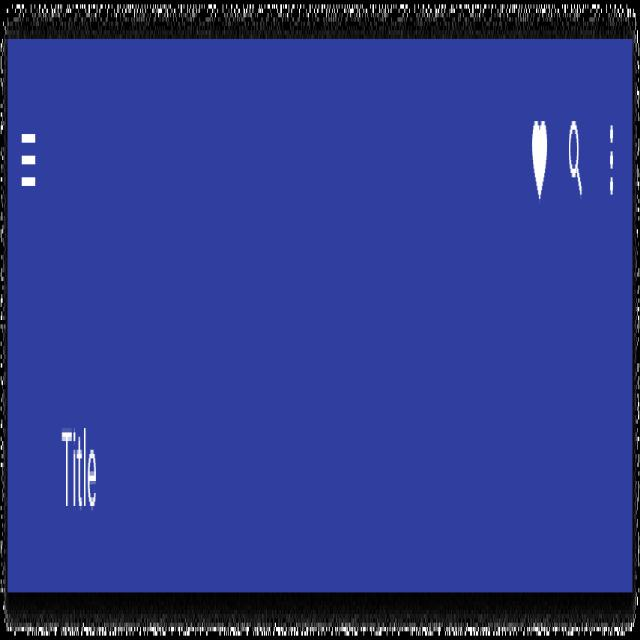QLabel: (60, 419, 98, 522)
VAppBar: (6, 32, 634, 605)
VIcon: (566, 116, 584, 202), (531, 114, 548, 205), (20, 127, 36, 194), (610, 122, 614, 199)
